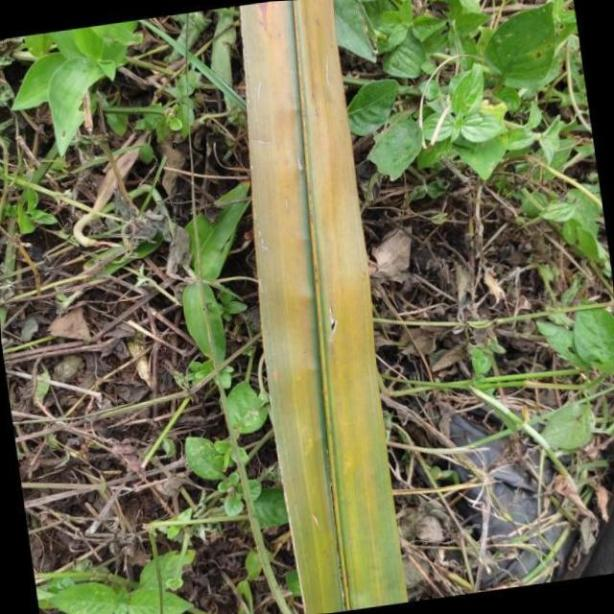Megnesium: (238, 3, 409, 614)
